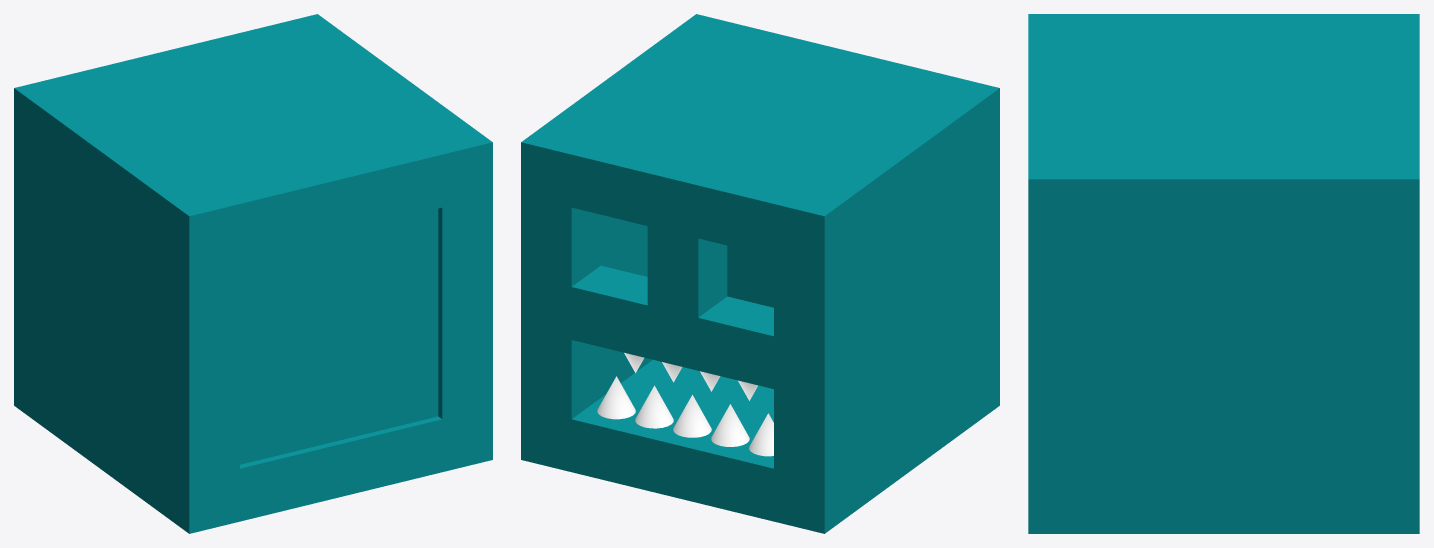
The model's file is Enemy.fbx.
3 renders of one model, left to right at view 1: azimuth 30°, elevation 25°; view 2: azimuth 150°, elevation 25°; view 3: azimuth 270°, elevation 25°, orthographic. The views are drawn at different scales.
Visible parts, largest first — view 1: pCube8; view 2: pCube8; view 3: pCube8.
Part boxes in pixels (<box>): pCube8: <box>14,14,492,533</box>; pCube8: <box>521,14,999,533</box>; pCube8: <box>1028,14,1419,533</box>.
Size of the model in its own units: 6 by 6 by 6.
